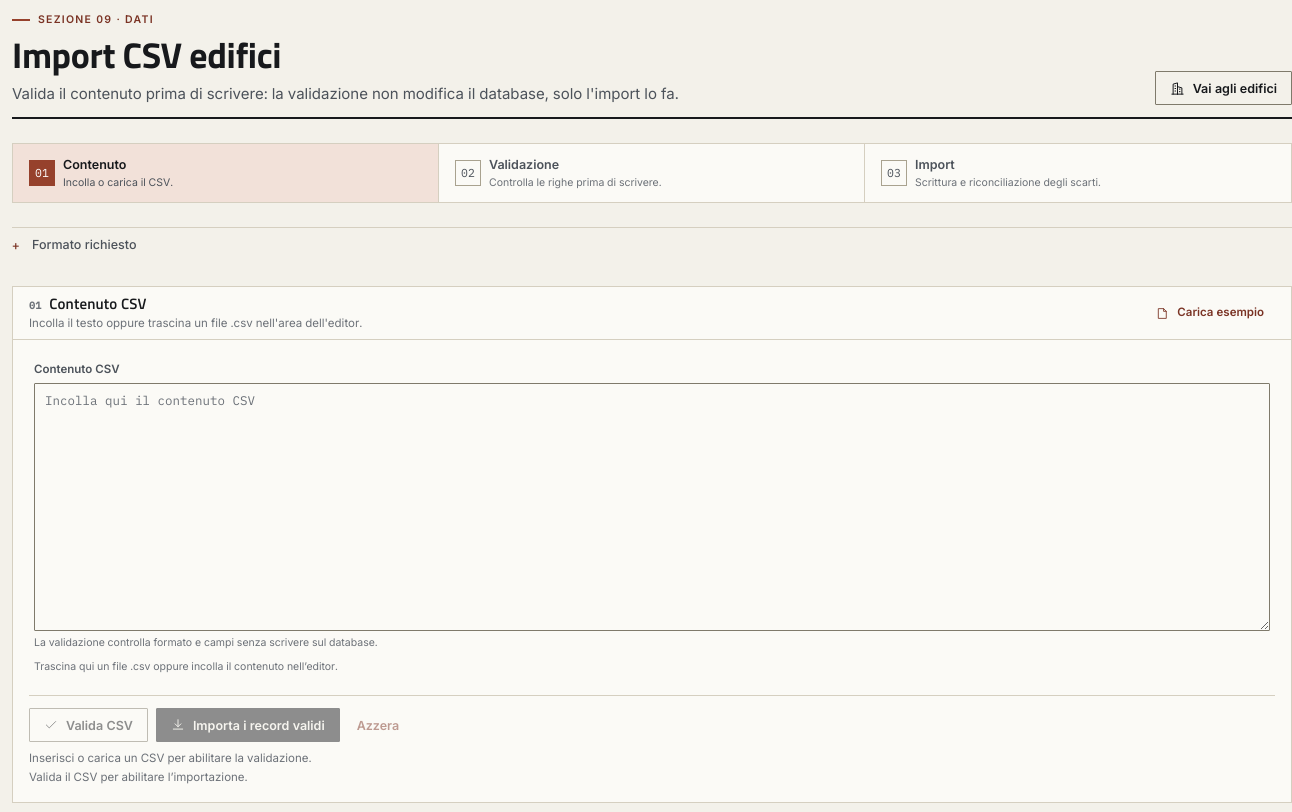
Test case: ImportPage › valida il CSV, mostra il riepilogo e la tabella degli errori
The image size is (1292, 812).
What coordinates should you click on to do the following:
click the button "Carica esempio"
I would click on:
 (1210, 313)
Its box is [1145, 299, 1275, 327].
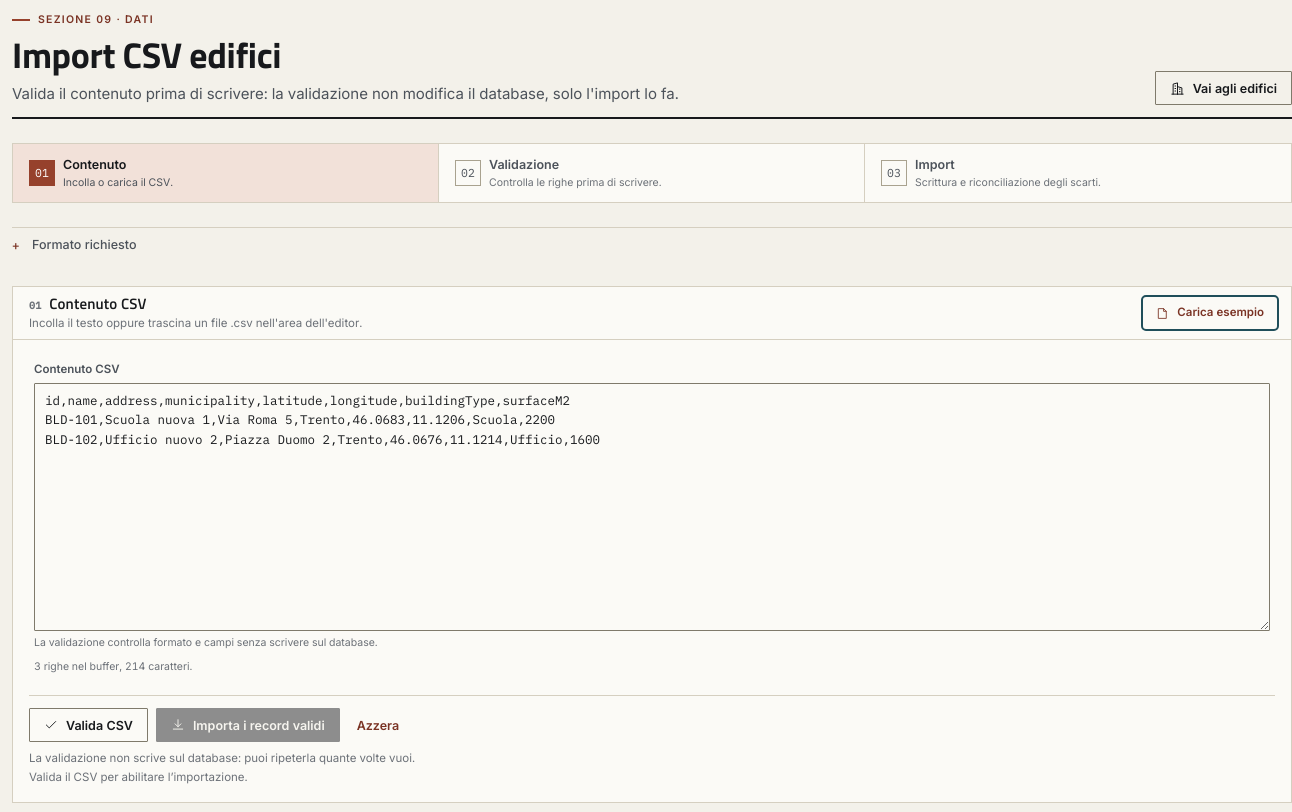
What coordinates should you click on to do the following:
click the button "Valida CSV"
I would click on:
 (88, 725)
Its box is [29, 708, 148, 742].
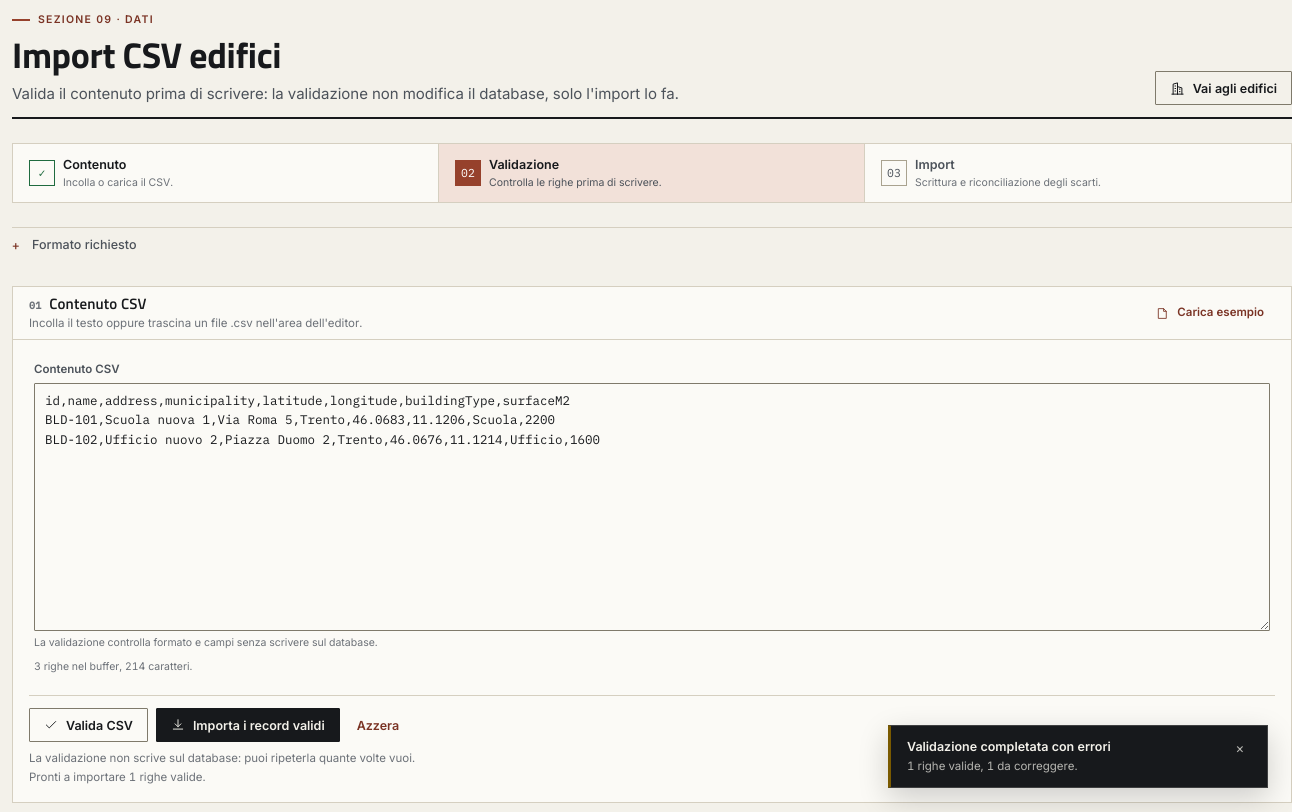
Expected: the text "Validazione completata con errori" is shown, [907, 739, 1111, 754]
Expected: the button "Importa i record validi" is enabled, [156, 708, 340, 742]
